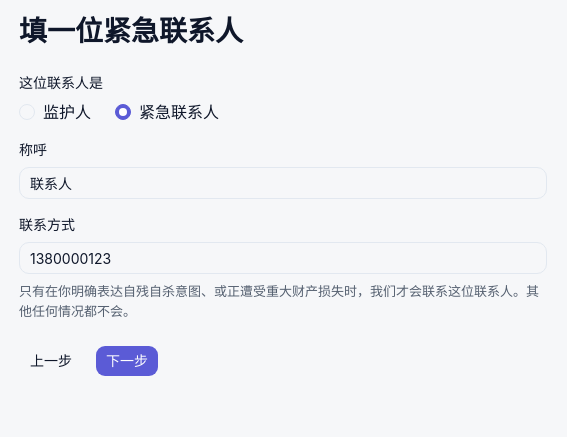
(f) 手机号格式不通过时渲染指定文案，并把焦点移到该输入框 › 填 10 位 ⇒ 错误文案在场且 document.activeElement 是手机号输入框
Click the button "下一步" at (127, 361), box [95,345,159,377]
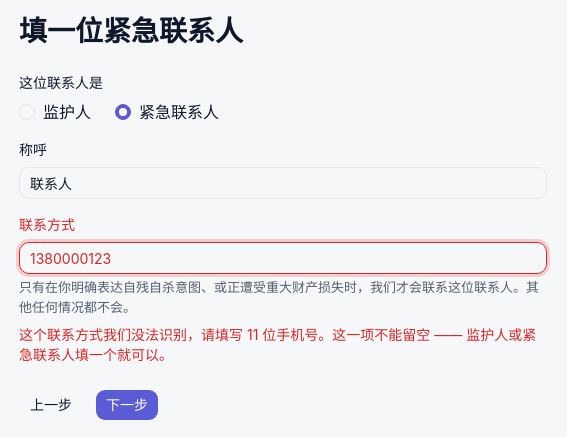
Expected: the text "这个联系方式我们没法识别，请填写 11 位手机号。这一项不能留空 —— 监护人或紧急联系人填一个就可以。" is shown, [19,325,547,365]
